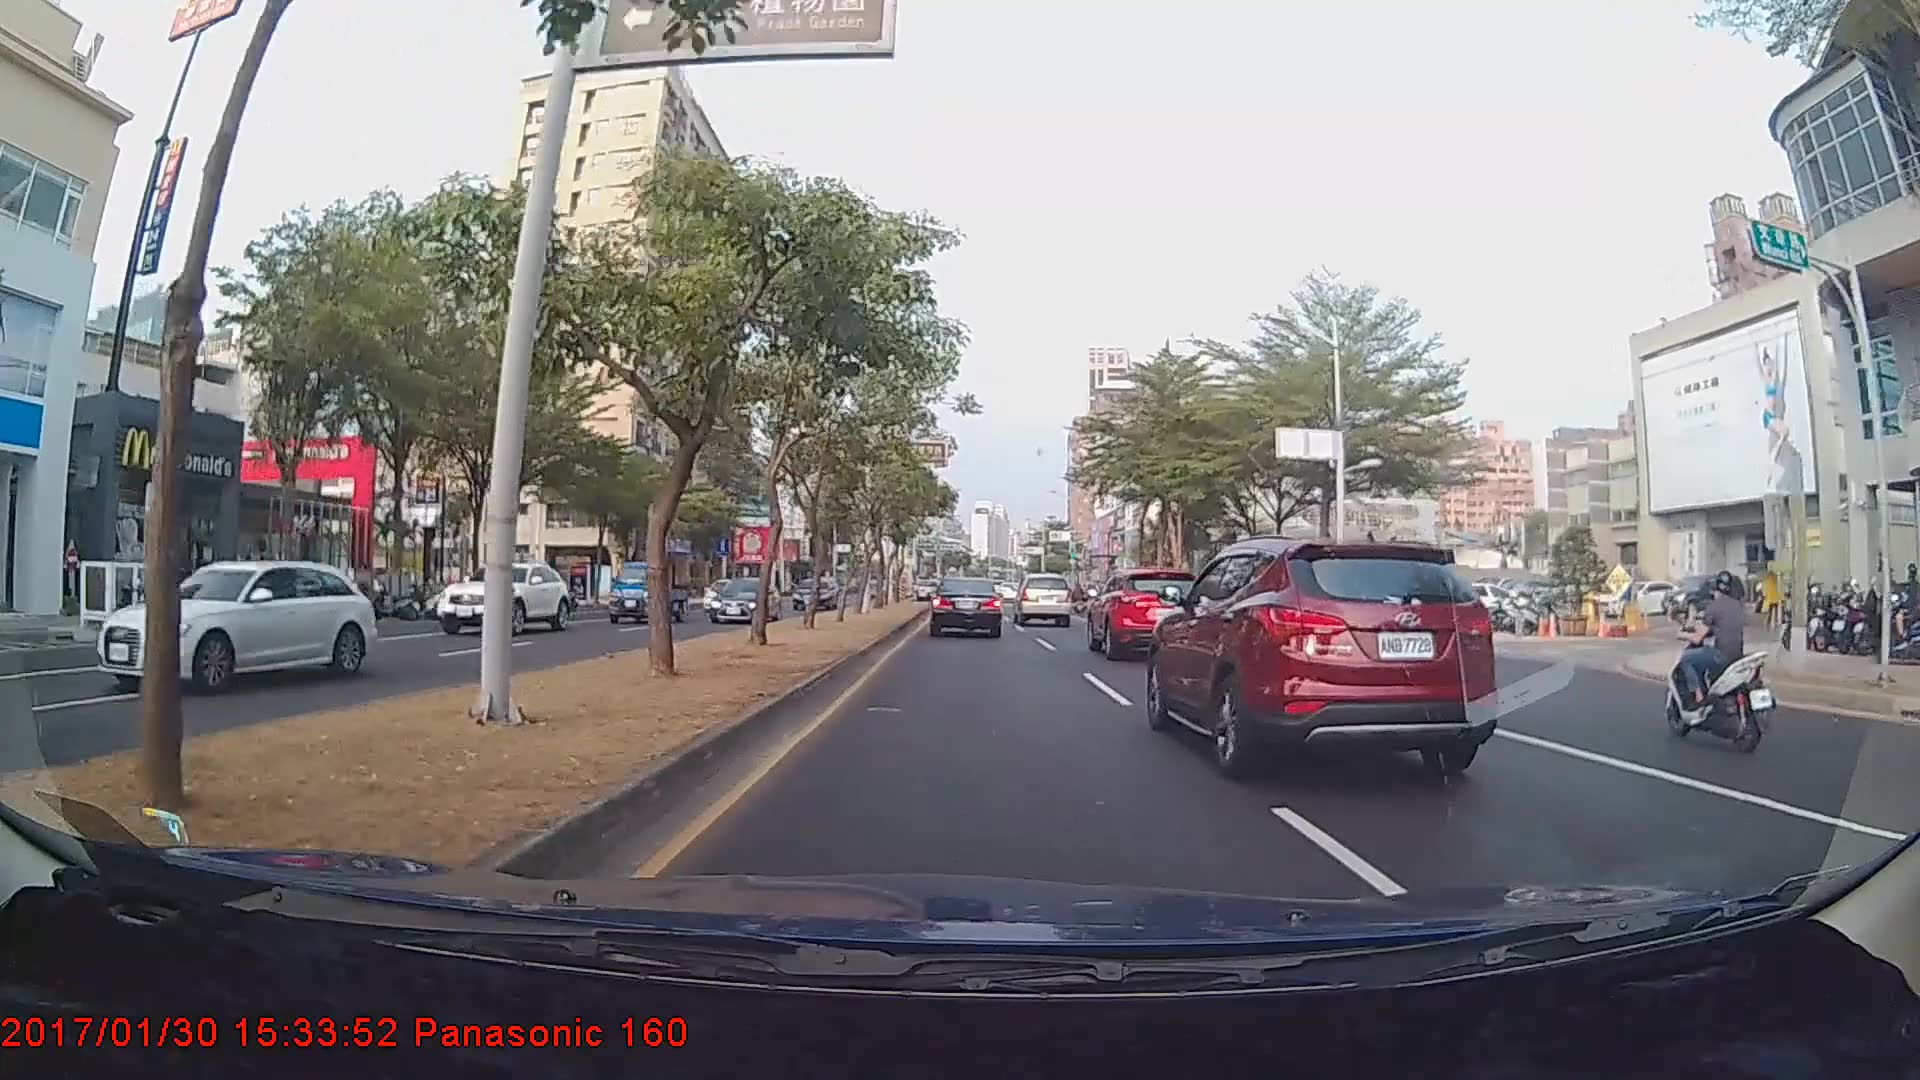rider: (1655, 567, 1776, 757)
vehicle: (1151, 538, 1495, 765), (94, 556, 375, 695), (1085, 569, 1209, 661), (437, 562, 576, 635), (607, 559, 685, 624), (929, 575, 1002, 638), (708, 572, 778, 624), (1013, 572, 1072, 628), (792, 574, 836, 611)
